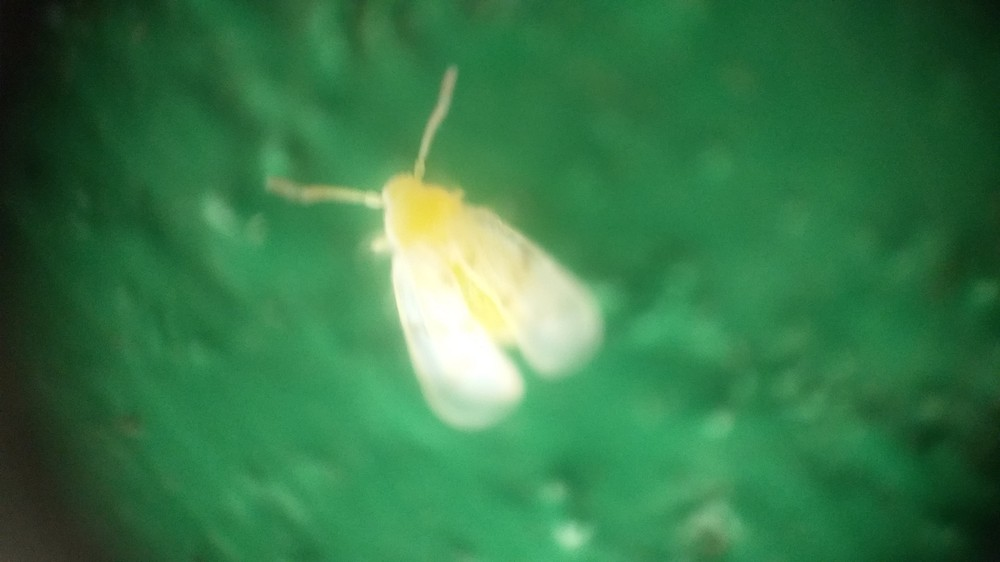Mosca Blanca: (256, 64, 642, 448)
